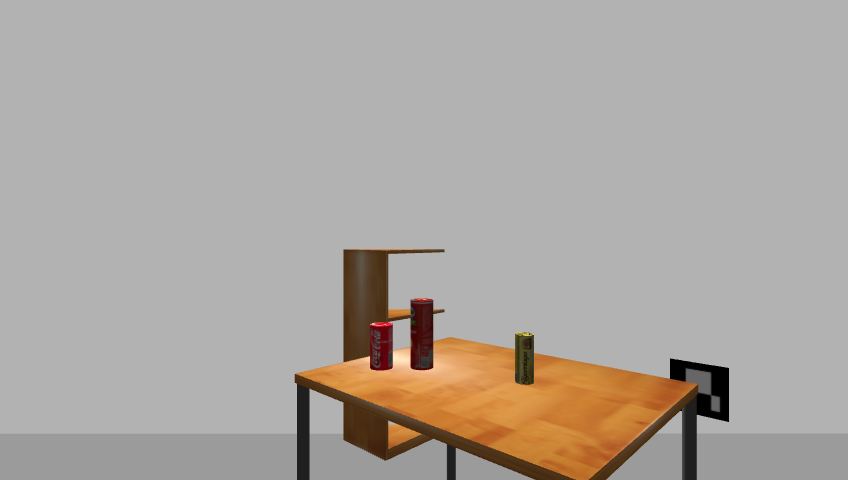aruco marker: (665, 357, 734, 423)
biscuits pack: (513, 332, 535, 386)
bookshelf: (336, 244, 448, 463)
coke can: (368, 322, 394, 372)
dinner table: (287, 338, 707, 479)
pringles can: (409, 298, 436, 372)
